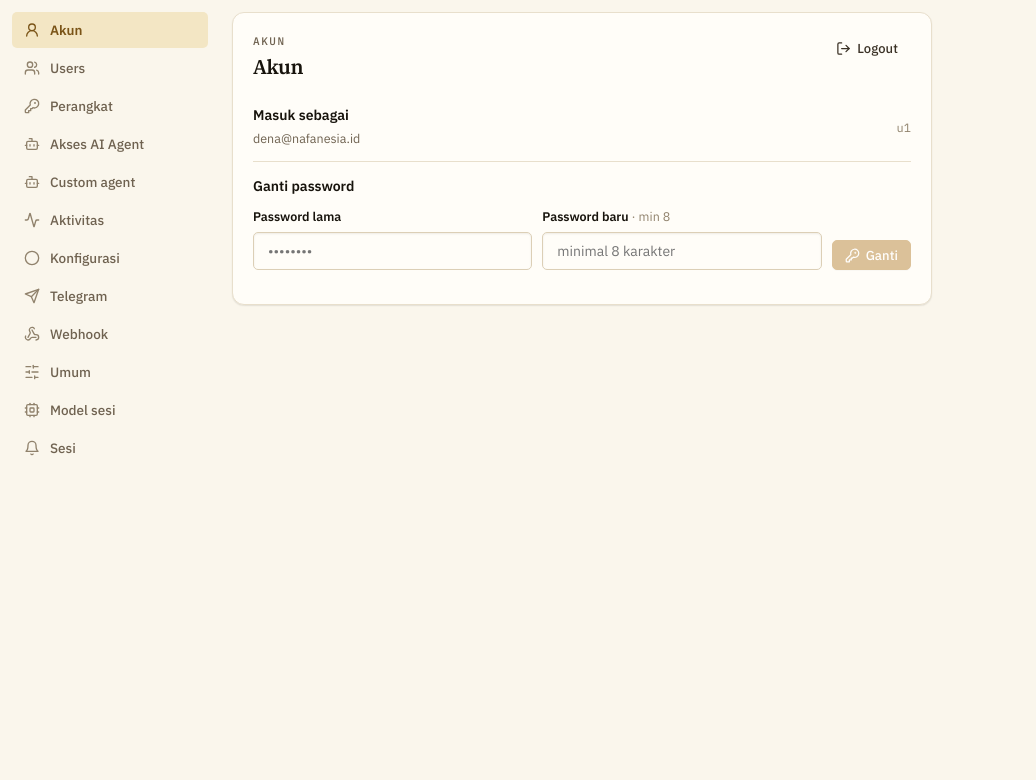
SPEC-488 · kartu agen hanoman-lead › mati → tak ada picker, nilai warisan ditampilkan
Click the button "Model sesi". click: (110, 410)
box: [12,392,208,428]
(page scrolled)
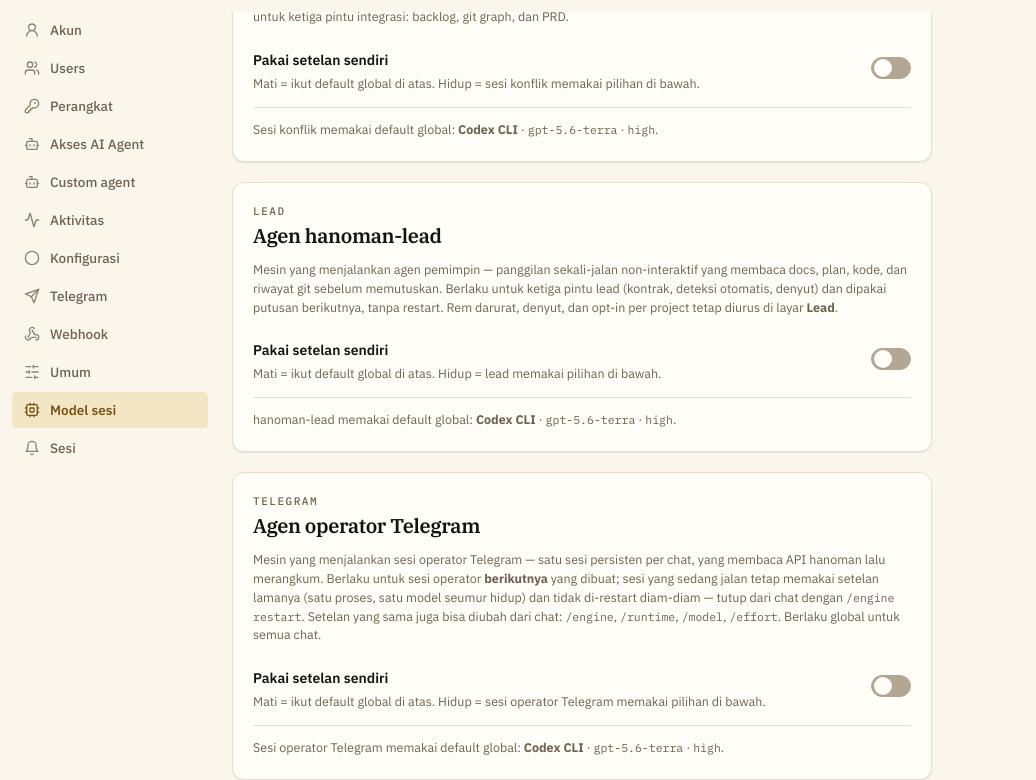
Now the element with test id "lead-engine-inherited" shows "Codex CLI", box [476,411,536,427]
Now the element with test id "lead-engine-inherited" shows "gpt-5.6-terra", box [546,412,635,427]
Now the element with test id "lead-engine-inherited" shows "high", box [645,412,673,427]
